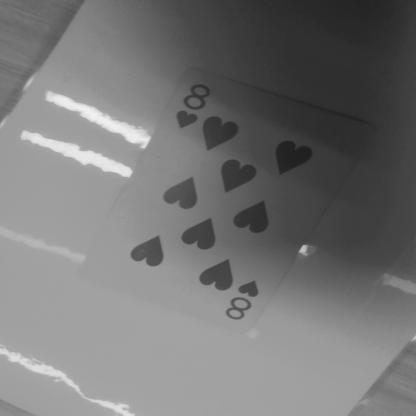8H: (170, 80, 224, 130), (223, 274, 269, 329)
